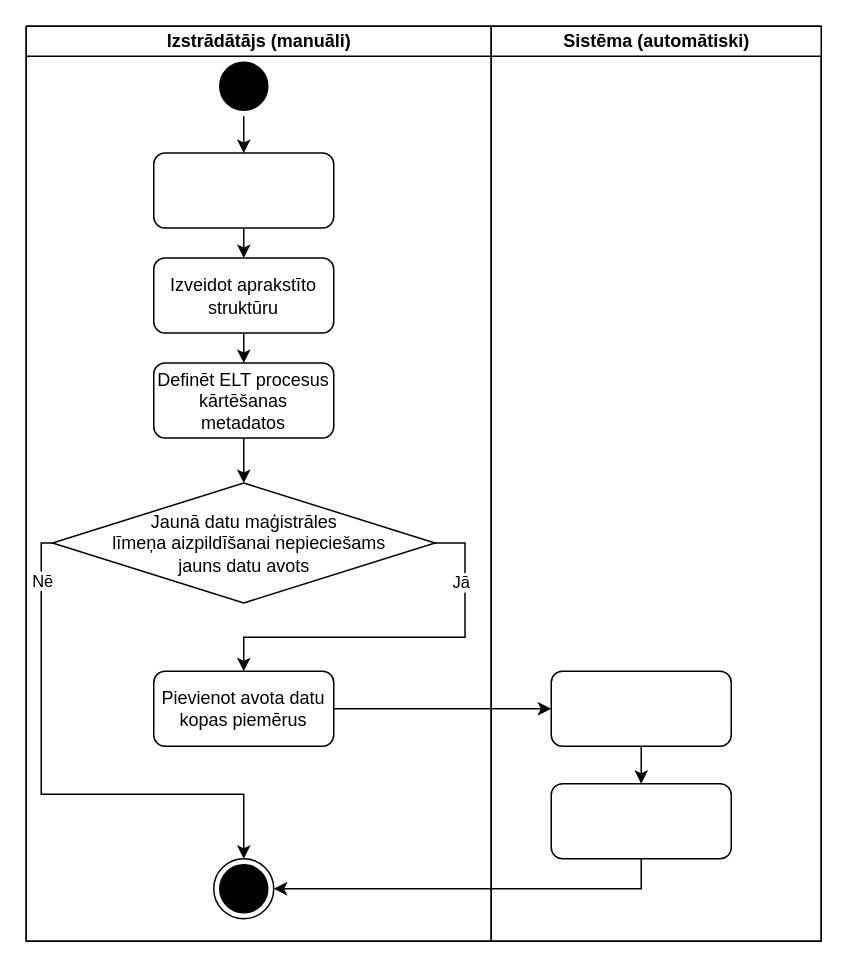
Some shapes in this 848 by 968 pixel diagram are drawn without their labels. Each missing label, with the box of its shape:
Aprakstīt jaunā datu maģistrāles līmeņa struktūru metadatos: (152, 152, 334, 228)
Iegūt datu kopas struktūru: (550, 670, 731, 746)
Pievienot datu kopu jaunajam datu maģistrāles līmenim: (550, 782, 731, 859)
